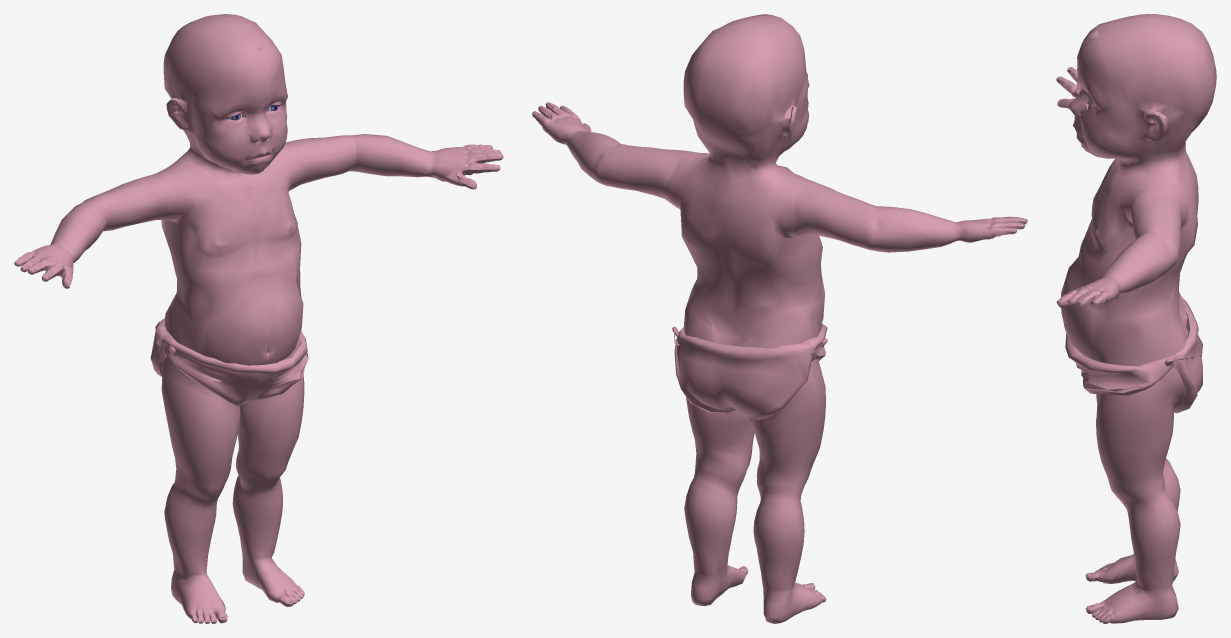
The model's file is baby.gltf.
3 views of the same model, side by side, from view 1: azimuth 30°, elevation 25°; view 2: azimuth 150°, elevation 25°; view 3: azimuth 270°, elevation 25° (orthographic).
Parts seen in each view (by area): view 1: baby; view 2: baby; view 3: baby.
Boxes of the visible parts, x1,y1,x2,y2 form: baby: (14,14,503,623); baby: (532,14,1027,623); baby: (1056,14,1216,623).
Bounding box in the file's own units: 6.49 × 7.43 × 1.86.
Materials: 6 (4 with a texture image).
